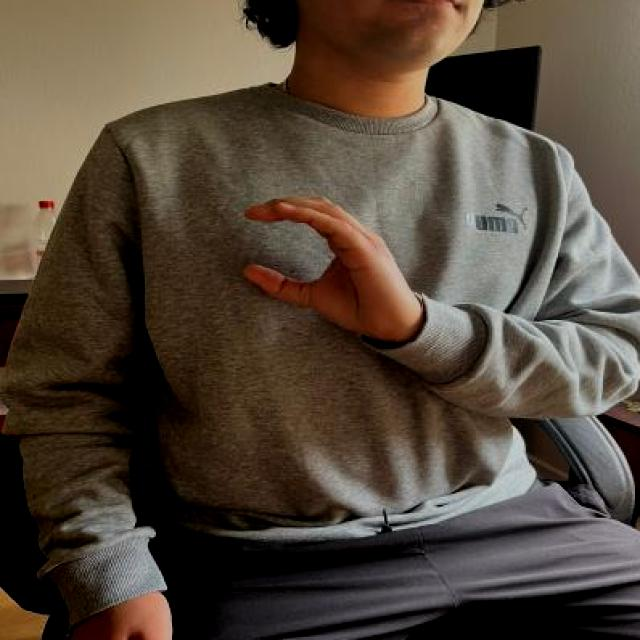C: (228, 190, 423, 342)
